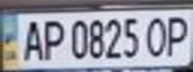0: (66, 16, 90, 61)
2: (103, 15, 127, 60)
5: (121, 13, 145, 60)
8: (87, 16, 106, 61)
A: (15, 17, 45, 62)
O: (142, 14, 172, 58)
P: (163, 12, 193, 59), (39, 16, 66, 61)
